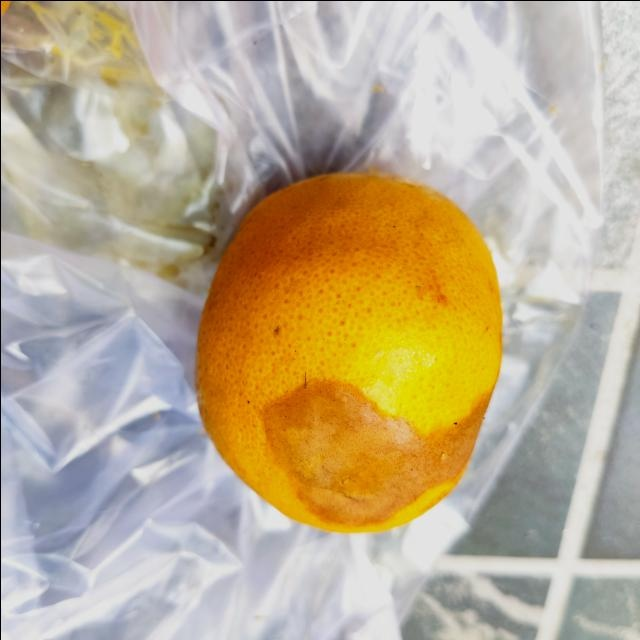agrume: (190, 169, 506, 535)
